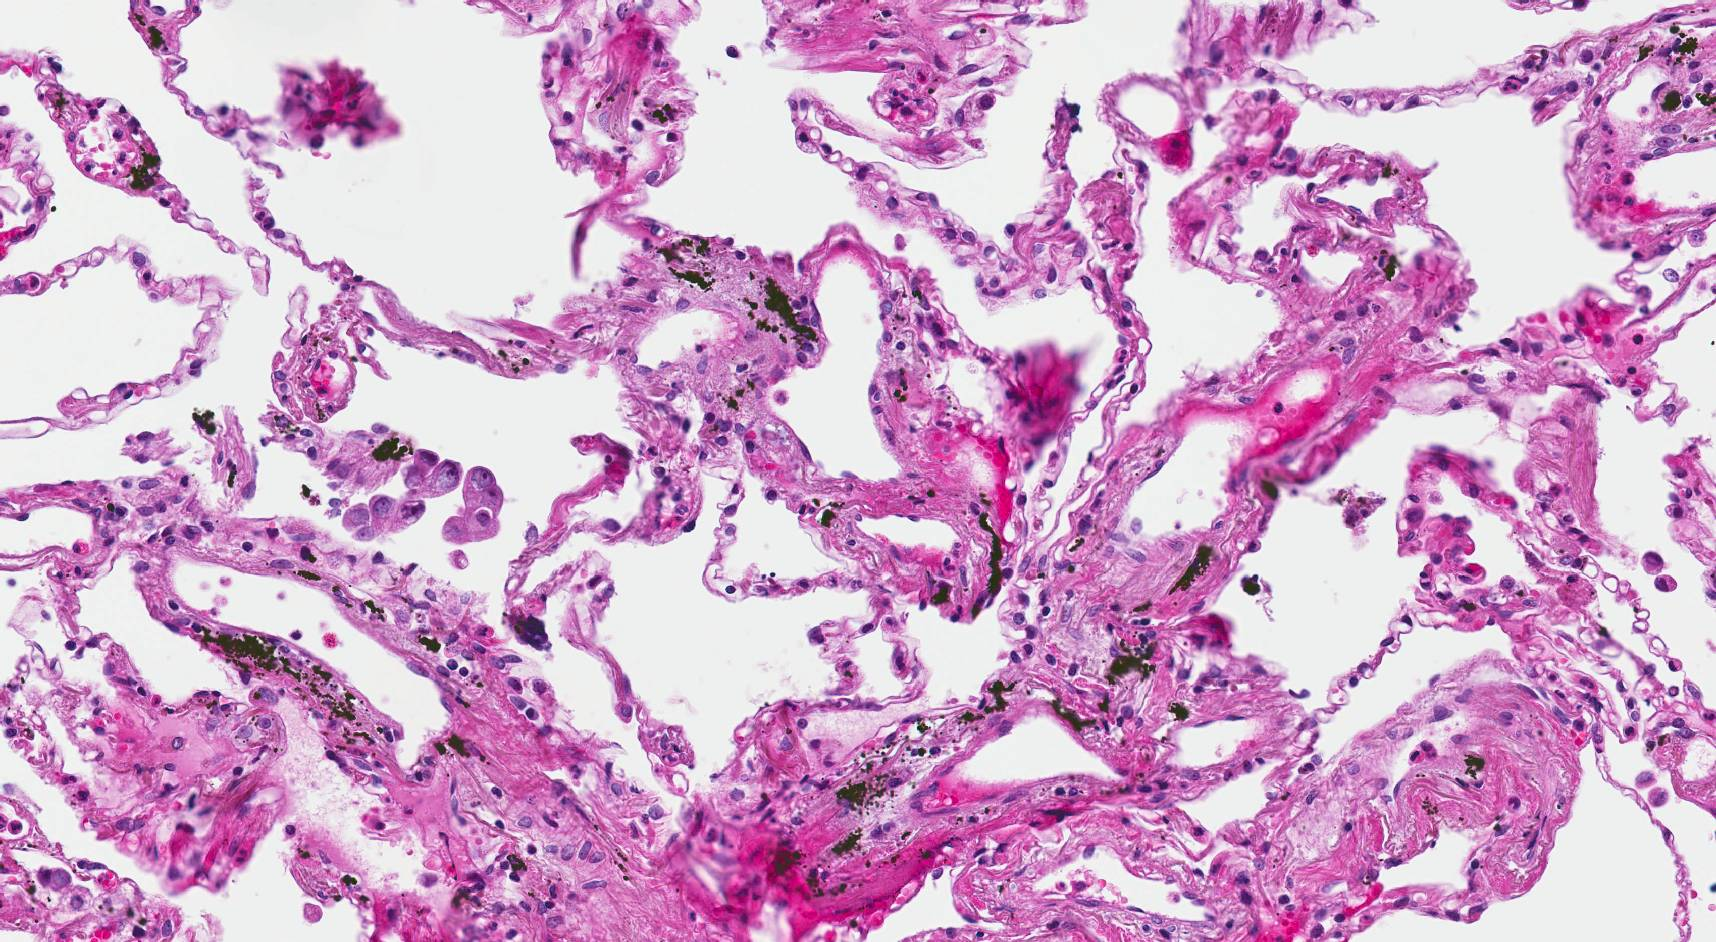stas: (341, 446, 463, 540), (443, 467, 508, 546)
